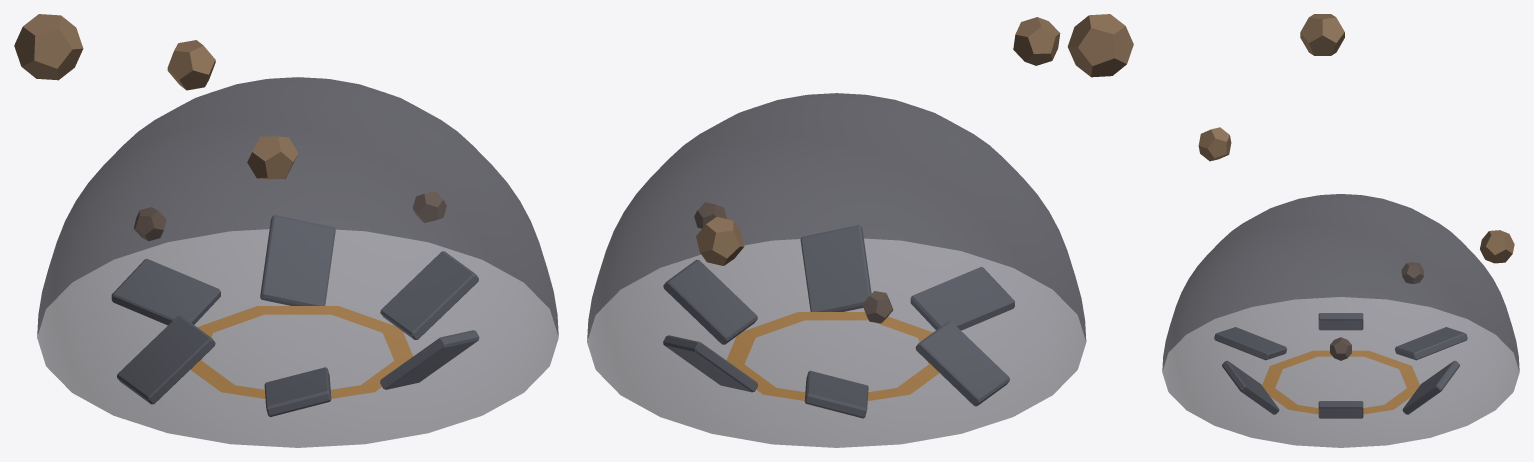
Rendered from vfx_burrow_spray.glb.
3 renders of one model, left to right at view 1: azimuth 30°, elevation 25°; view 2: azimuth 150°, elevation 25°; view 3: azimuth 270°, elevation 25°, orthographic. The views are drawn at different scales.
Visible parts, largest first — view 1: spray_dust, spray_plate5, spray_plate4, spray_fissure, spray_plate0, spray_plate3, spray_clod11, spray_plate2, spray_plate1, spray_clod13, spray_clod10, spray_clod12 (+1 smaller); view 2: spray_dust, spray_plate1, spray_plate2, spray_plate3, spray_plate0, spray_fissure, spray_clod11, spray_plate4, spray_plate5, spray_clod10, spray_clod13, spray_clod12; view 3: spray_dust, spray_fissure, spray_clod11, spray_plate2, spray_plate4, spray_plate1, spray_plate5, spray_clod13, spray_clod10, spray_plate0, spray_plate3, spray_clod0 (+1 smaller).
Part boxes in pixels (box(x1,y1,x2,y2)): spray_dust: box(37, 77, 558, 447); spray_plate5: box(260, 215, 335, 305); spray_plate4: box(111, 259, 220, 325); spray_fissure: box(190, 306, 412, 398); spray_plate0: box(380, 251, 478, 339); spray_plate3: box(117, 315, 215, 404); spray_clod11: box(14, 14, 83, 80); spray_plate2: box(264, 367, 331, 416); spray_plate1: box(380, 330, 479, 389); spray_clod13: box(167, 40, 215, 90); spray_clod10: box(247, 136, 298, 179); spray_clod12: box(133, 207, 166, 240); spray_dust: box(587, 93, 1086, 447); spray_plate1: box(800, 225, 871, 311); spray_plate2: box(910, 267, 1014, 330); spray_plate3: box(915, 321, 1009, 406); spray_plate0: box(663, 260, 757, 344); spray_fissure: box(726, 312, 939, 400); spray_clod11: box(1067, 14, 1133, 77); spray_plate4: box(804, 370, 868, 418); spray_plate5: box(663, 335, 757, 392); spray_clod10: box(1013, 17, 1060, 65); spray_clod13: box(696, 217, 744, 265); spray_clod12: box(862, 291, 893, 323); spray_dust: box(1162, 194, 1519, 447); spray_fissure: box(1262, 350, 1419, 414); spray_clod11: box(1300, 14, 1344, 55); spray_plate2: box(1214, 327, 1286, 360); spray_plate4: box(1395, 327, 1467, 360); spray_plate1: box(1222, 360, 1279, 414); spray_plate5: box(1402, 360, 1459, 414); spray_clod13: box(1480, 230, 1514, 263); spray_clod10: box(1198, 127, 1231, 161); spray_plate0: box(1318, 401, 1363, 418); spray_plate3: box(1318, 313, 1363, 330); spray_clod0: box(1330, 337, 1351, 360).
Size of what is drawn, in the model's own units: 2.74 by 2.13 by 2.4.
